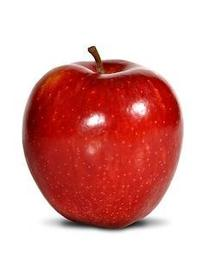apple: (20, 46, 183, 229)
